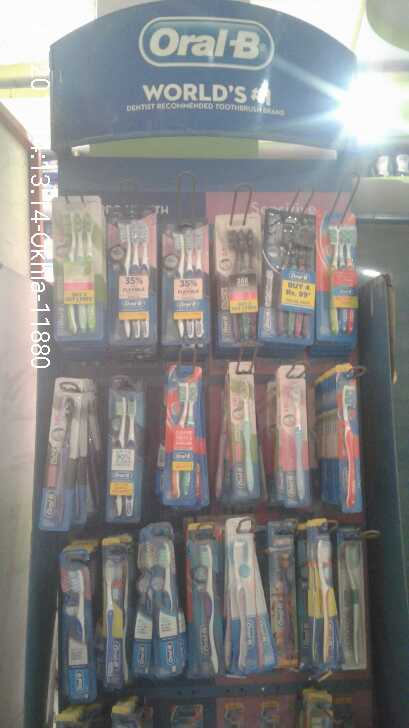oralb: (53, 208, 106, 333), (116, 215, 162, 342), (270, 224, 316, 346), (219, 225, 257, 349), (105, 399, 143, 523), (166, 229, 207, 341), (337, 383, 365, 507), (330, 228, 357, 340)
